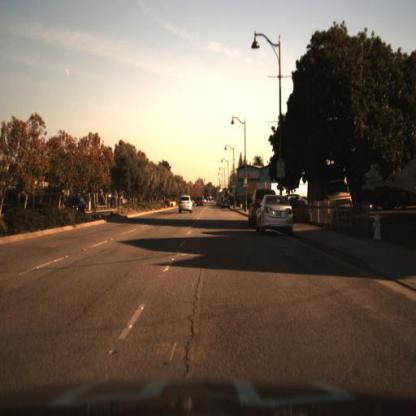car: (257, 192, 294, 236), (176, 191, 195, 217), (247, 191, 258, 234), (68, 196, 87, 216), (192, 192, 206, 211), (223, 198, 231, 210)
truck: (315, 152, 359, 226)
